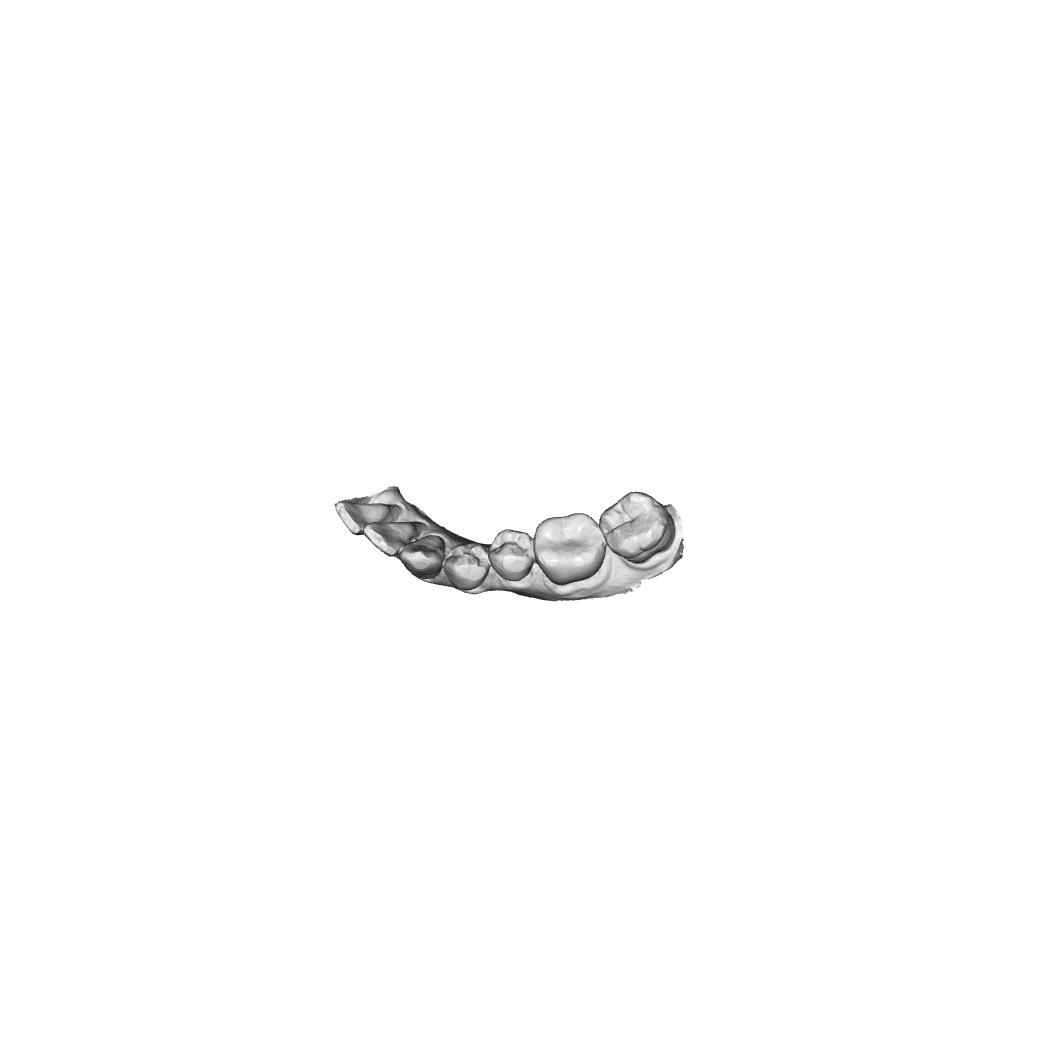canine: (398, 533, 446, 580)
incisor: (333, 498, 400, 536), (362, 520, 423, 559)
molar: (598, 490, 677, 564), (532, 510, 607, 586)
premolar: (488, 528, 534, 583), (442, 541, 491, 591)
